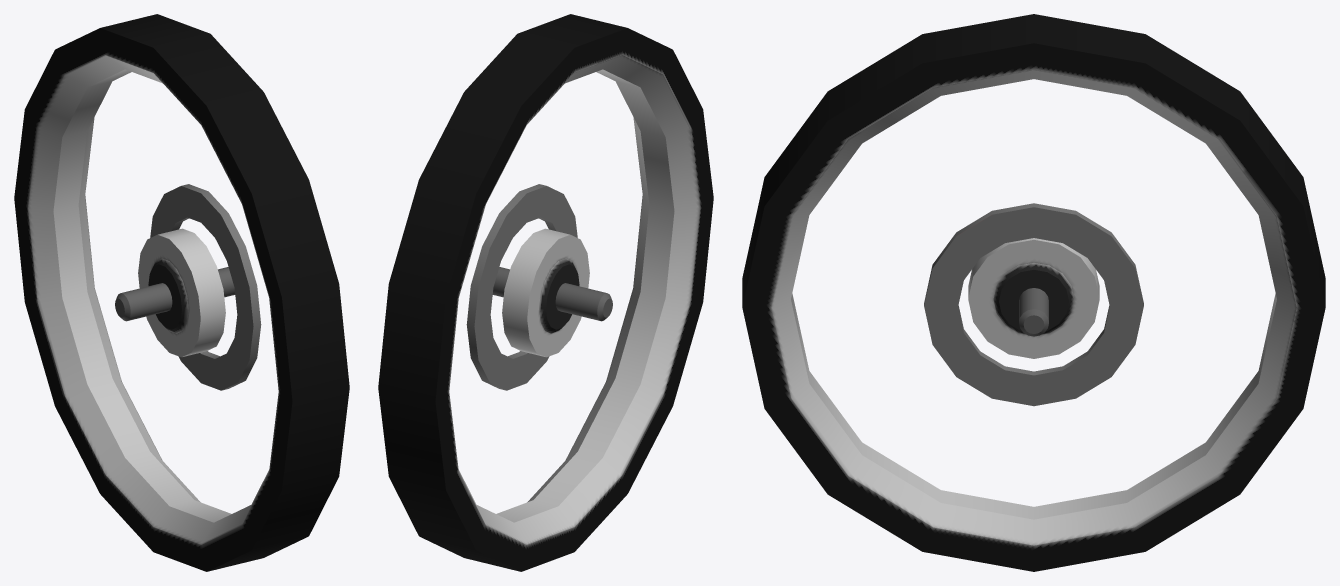
File: Bike Rear Wheel.fbx
3 renders of one model, left to right at view 1: azimuth 30°, elevation 25°; view 2: azimuth 150°, elevation 25°; view 3: azimuth 270°, elevation 25°, orthographic. The views are drawn at different scales.
Parts seen in each view (by area): view 1: Mountain Bike Rear Wheel; view 2: Mountain Bike Rear Wheel; view 3: Mountain Bike Rear Wheel.
Boxes of the visible parts, x1=… form: Mountain Bike Rear Wheel: x1=14, y1=14, x2=349, y2=571; Mountain Bike Rear Wheel: x1=378, y1=14, x2=713, y2=571; Mountain Bike Rear Wheel: x1=742, y1=14, x2=1325, y2=571.
Bounding box in the file's own units: 35.53 × 138 × 138.
